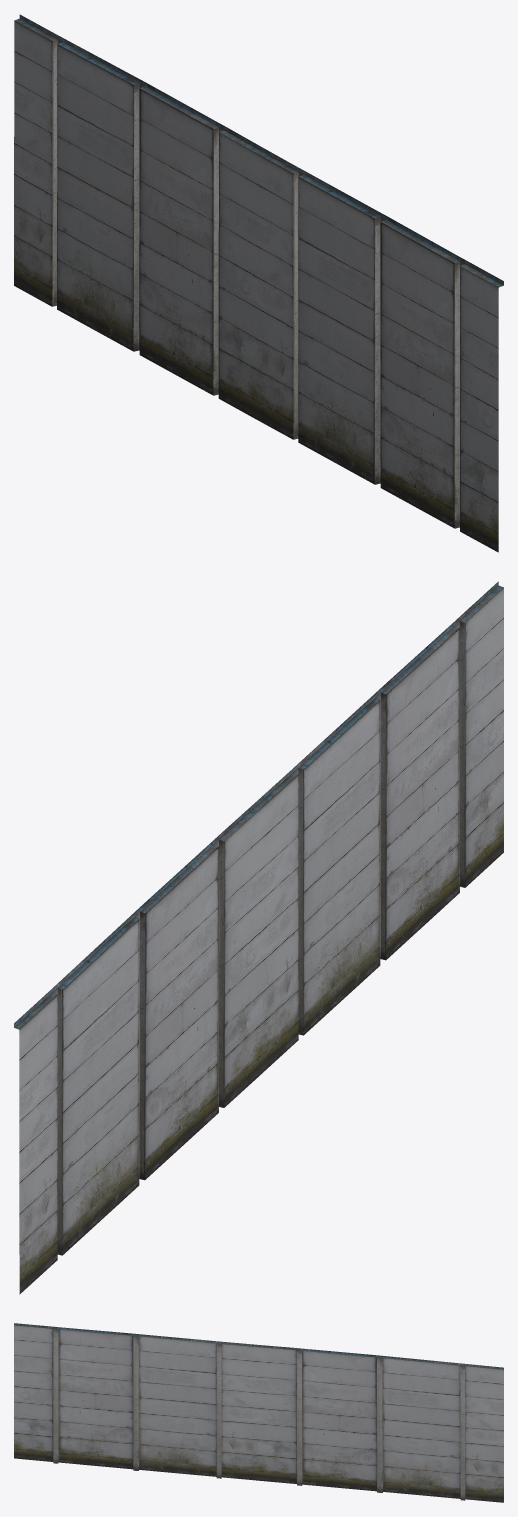
File: Outer_Fence_Angle.fbx
3 renders of one model, top to bottom at view 1: azimuth 30°, elevation 25°; view 2: azimuth 150°, elevation 25°; view 3: azimuth 270°, elevation 25°, orthographic. The views are drawn at different scales.
Visible parts, largest first — view 1: Outer_Fence_Angle; view 2: Outer_Fence_Angle; view 3: Outer_Fence_Angle.
Part boxes in pixels (bbox=[...]): Outer_Fence_Angle: bbox=[14, 14, 503, 552]; Outer_Fence_Angle: bbox=[14, 581, 503, 1294]; Outer_Fence_Angle: bbox=[14, 1323, 503, 1502].
Bounding box in the file's own units: 0.1326 × 8.15 × 20.
